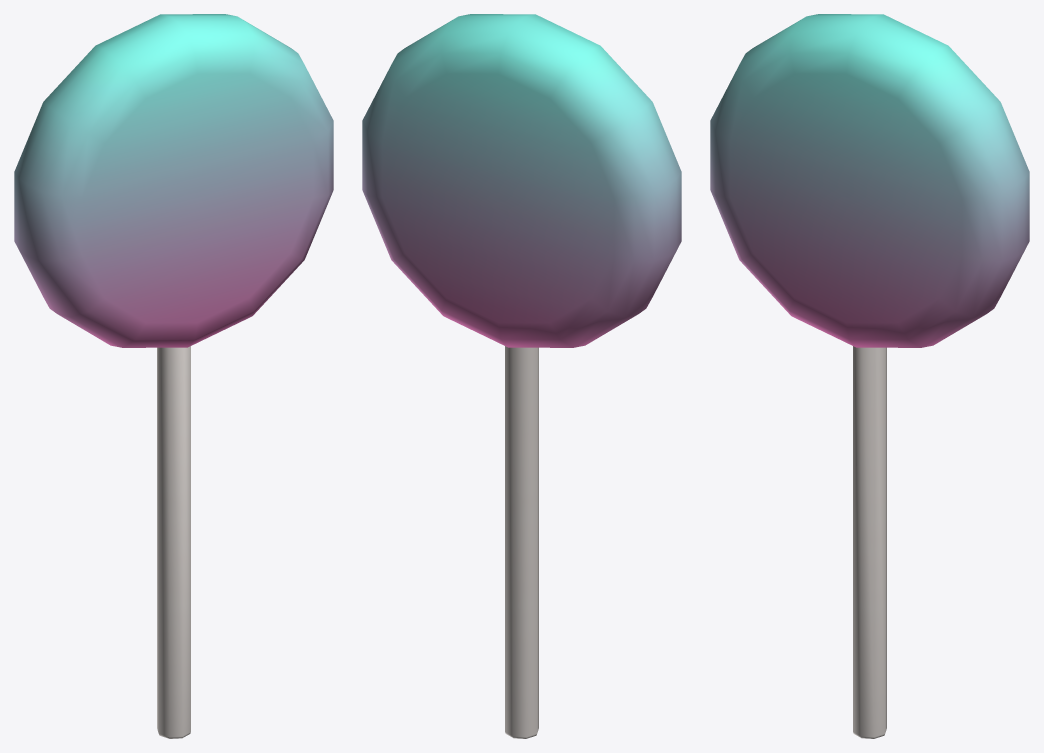
Rendered from candy_glass_11.fbx.
3 renders of one model, left to right at view 1: azimuth 30°, elevation 25°; view 2: azimuth 150°, elevation 25°; view 3: azimuth 330°, elevation 25°, orthographic.
Parts seen in each view (by area): view 1: c_g_11; view 2: c_g_11; view 3: c_g_11.
Part boxes in pixels (left/top/right/bottom): c_g_11: left=14, top=14, right=333, bottom=738; c_g_11: left=362, top=14, right=681, bottom=738; c_g_11: left=710, top=14, right=1029, bottom=738.
Size of the model in its own units: 137 by 310 by 37.39.
